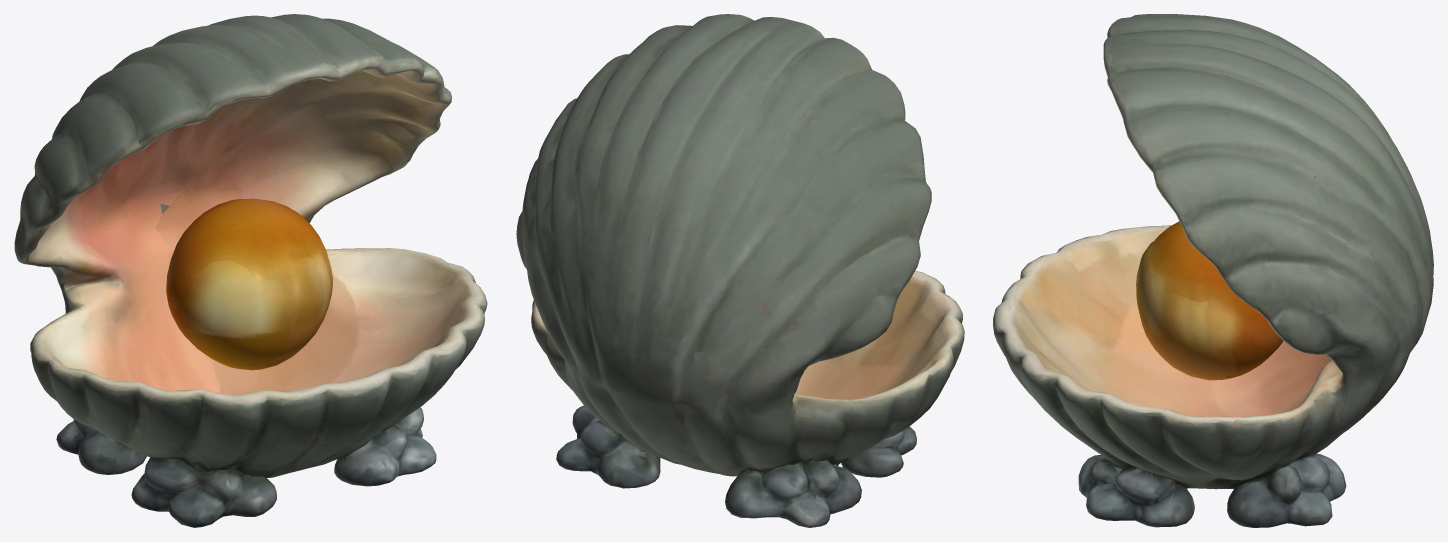
File: sc-shell-niche.glb
3 views of the same model, side by side, from view 1: azimuth 30°, elevation 25°; view 2: azimuth 150°, elevation 25°; view 3: azimuth 270°, elevation 25° (orthographic). The views are drawn at different scales.
Parts seen in each view (by area): view 1: geometry_0; view 2: geometry_0; view 3: geometry_0.
Part boxes in pixels (x1,y1,x2,y2): geometry_0: [14, 14, 487, 527]; geometry_0: [516, 14, 964, 527]; geometry_0: [993, 14, 1433, 527].
Size of the model in its own units: 1 by 1 by 0.941.
1 material, 1 textured.
